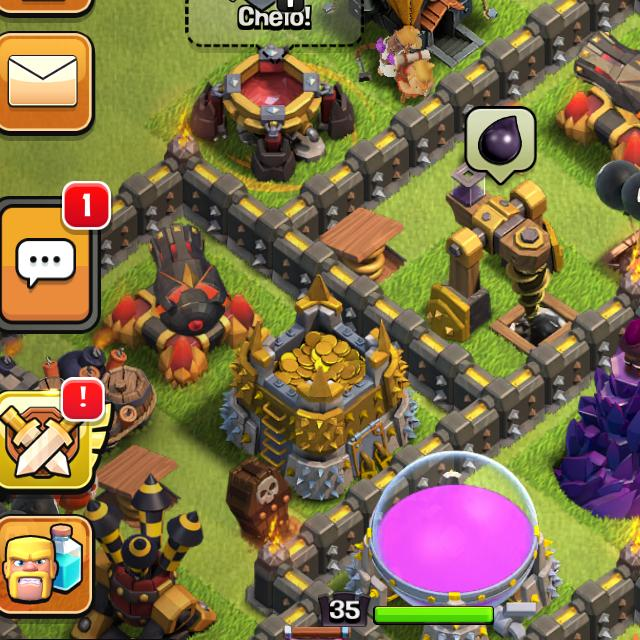ElixirNegro: (470, 108, 535, 184)
